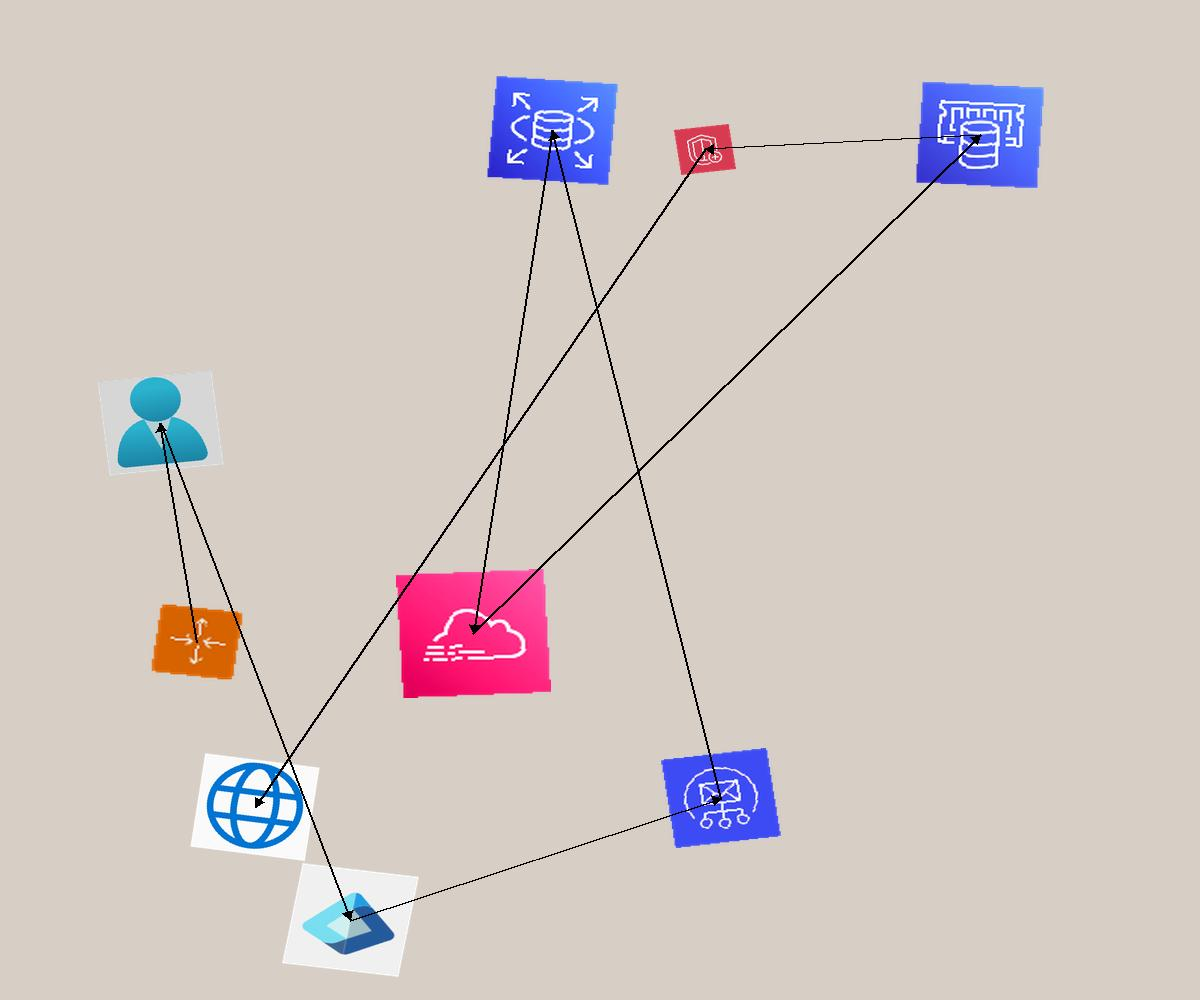AWS-CloudTrail: (396, 569, 551, 698)
AWS-ElastiCache: (915, 81, 1045, 189)
AWS-RDS: (486, 75, 619, 186)
AWS-Scaling-group: (150, 603, 244, 681)
AWS-Shield: (674, 124, 736, 175)
AWS-Simple-Email-Service: (660, 747, 782, 849)
Azure_http: (190, 753, 320, 861)
Azure_microsoft_entra: (282, 863, 419, 977)
Azure_users: (97, 370, 224, 476)
